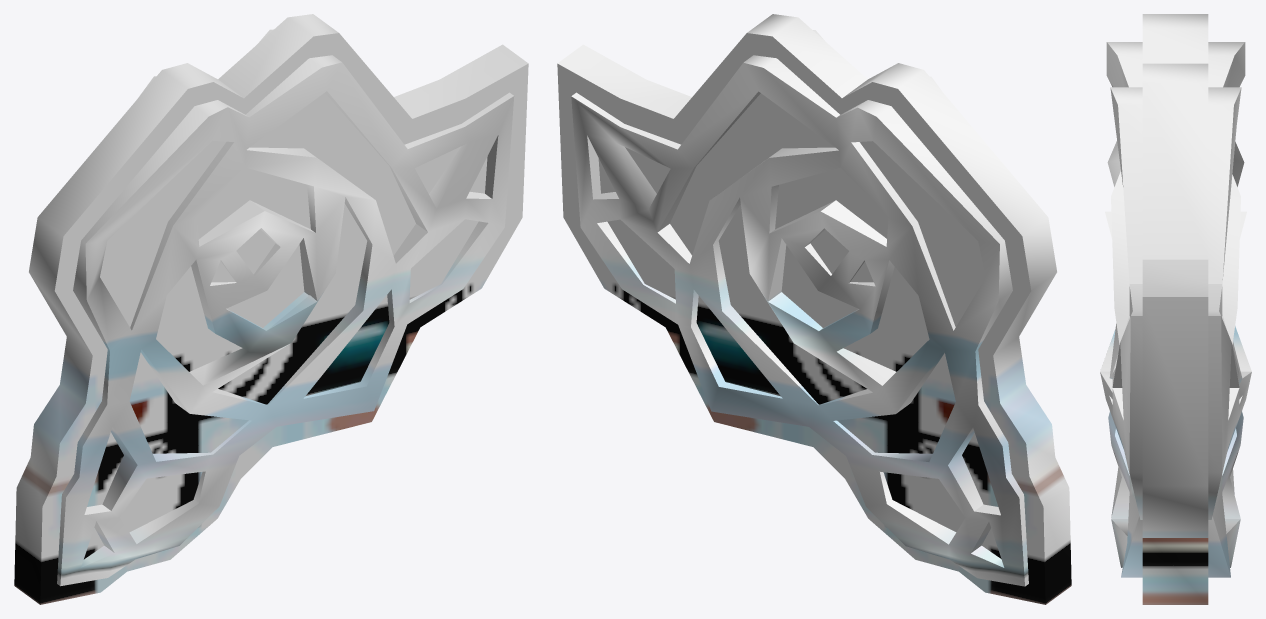
The model's file is static.ico.obj.
The picture shows the model from 3 angles, left to right: view 1: azimuth 30°, elevation 25°; view 2: azimuth 150°, elevation 25°; view 3: azimuth 270°, elevation 25°; orthographic projection. The views are drawn at different scales.
Size of the model in its own units: 4.29 by 4.23 by 0.9146.
